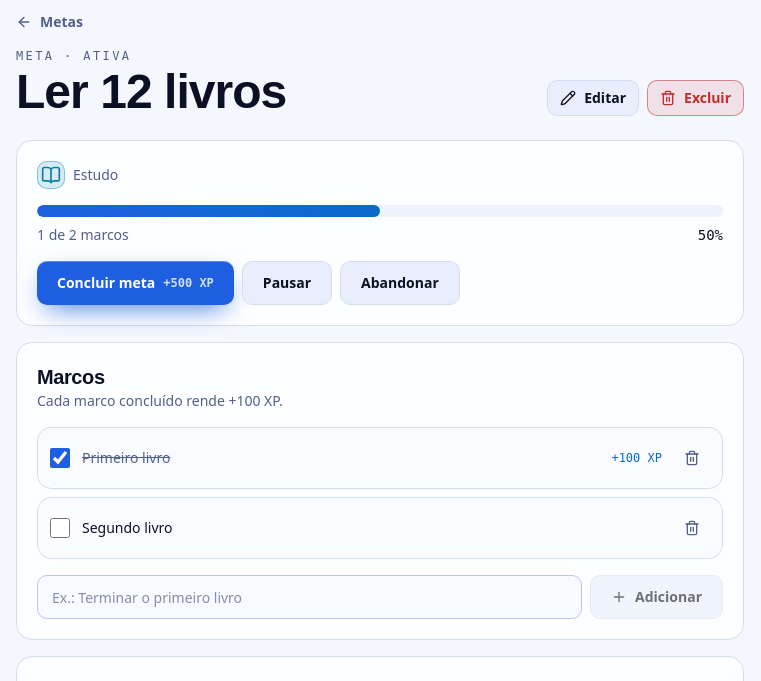
GoalDetailPage › marcos › exclui um marco
This screenshot has width=761, height=681.
Click the button named "Excluir marco Segundo livro": click(692, 528) [674,510,710,546]
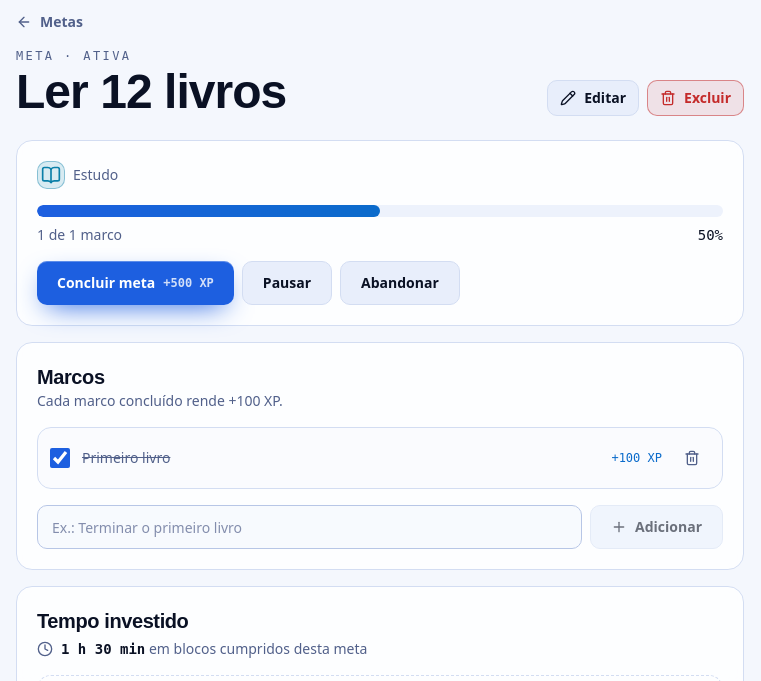
Check: the label "Segundo livro" is gone
